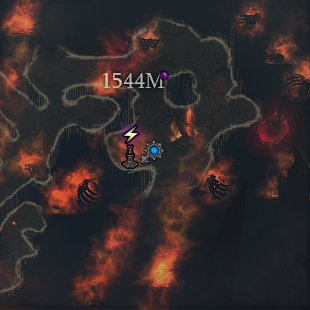ConduitPylon: (123, 124, 140, 168)
